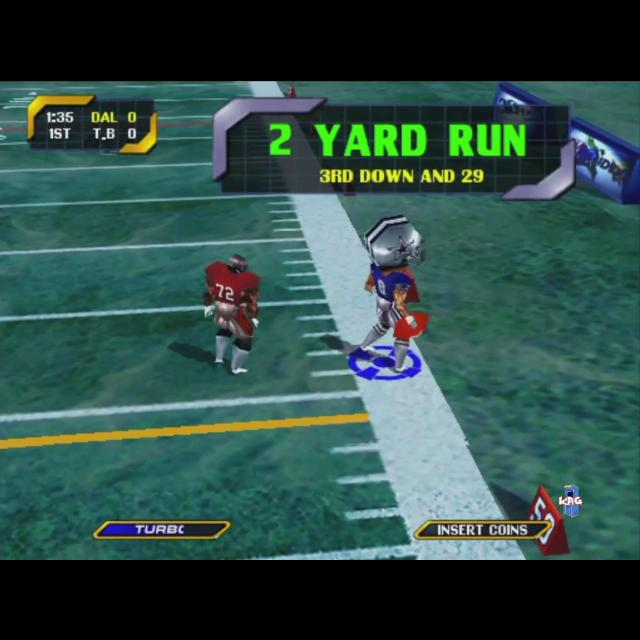player: (362, 213, 428, 373), (204, 254, 260, 372)
